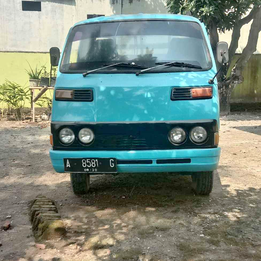plate: (63, 157, 118, 171)
